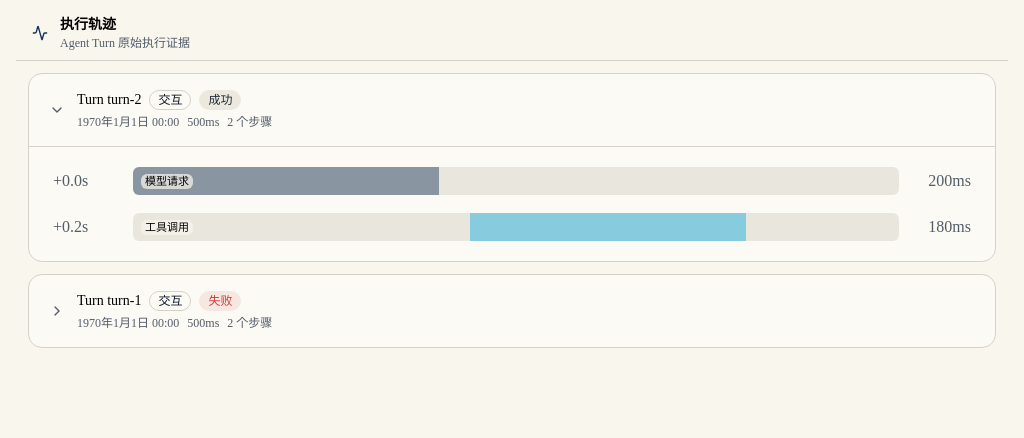
Test case: executionTracePanel › 手动展开的时间线读取失败时结束 loading 并展示错误
This screenshot has width=1024, height=438.
Expected: the button "+0.0s 模型请求 200ms" is shown, [41, 159, 983, 203]
Click the button "Turn turn-1 交互 失败 1970年1月1日 00:00 500ms 2 个步骤" at {"x": 124, "y": 300}, box [37, 283, 987, 339]
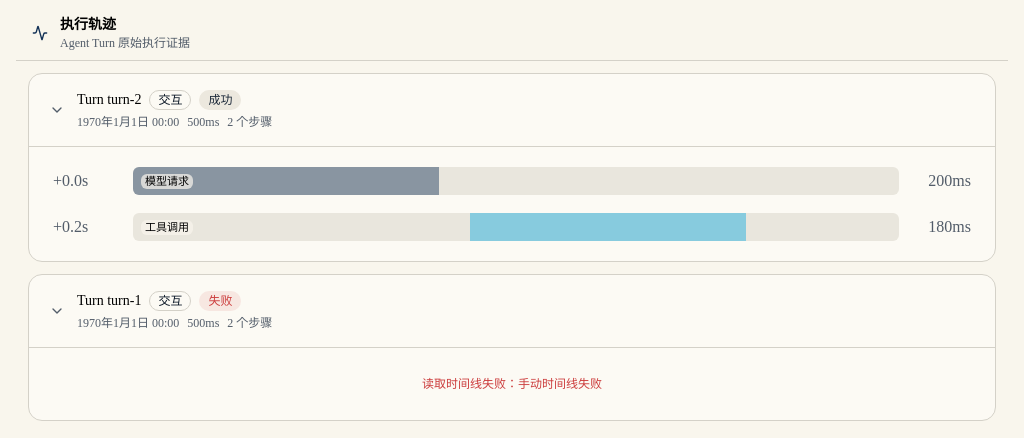
Now the text "读取时间线失败：手动时间线失败" is shown, box [422, 377, 602, 391]
